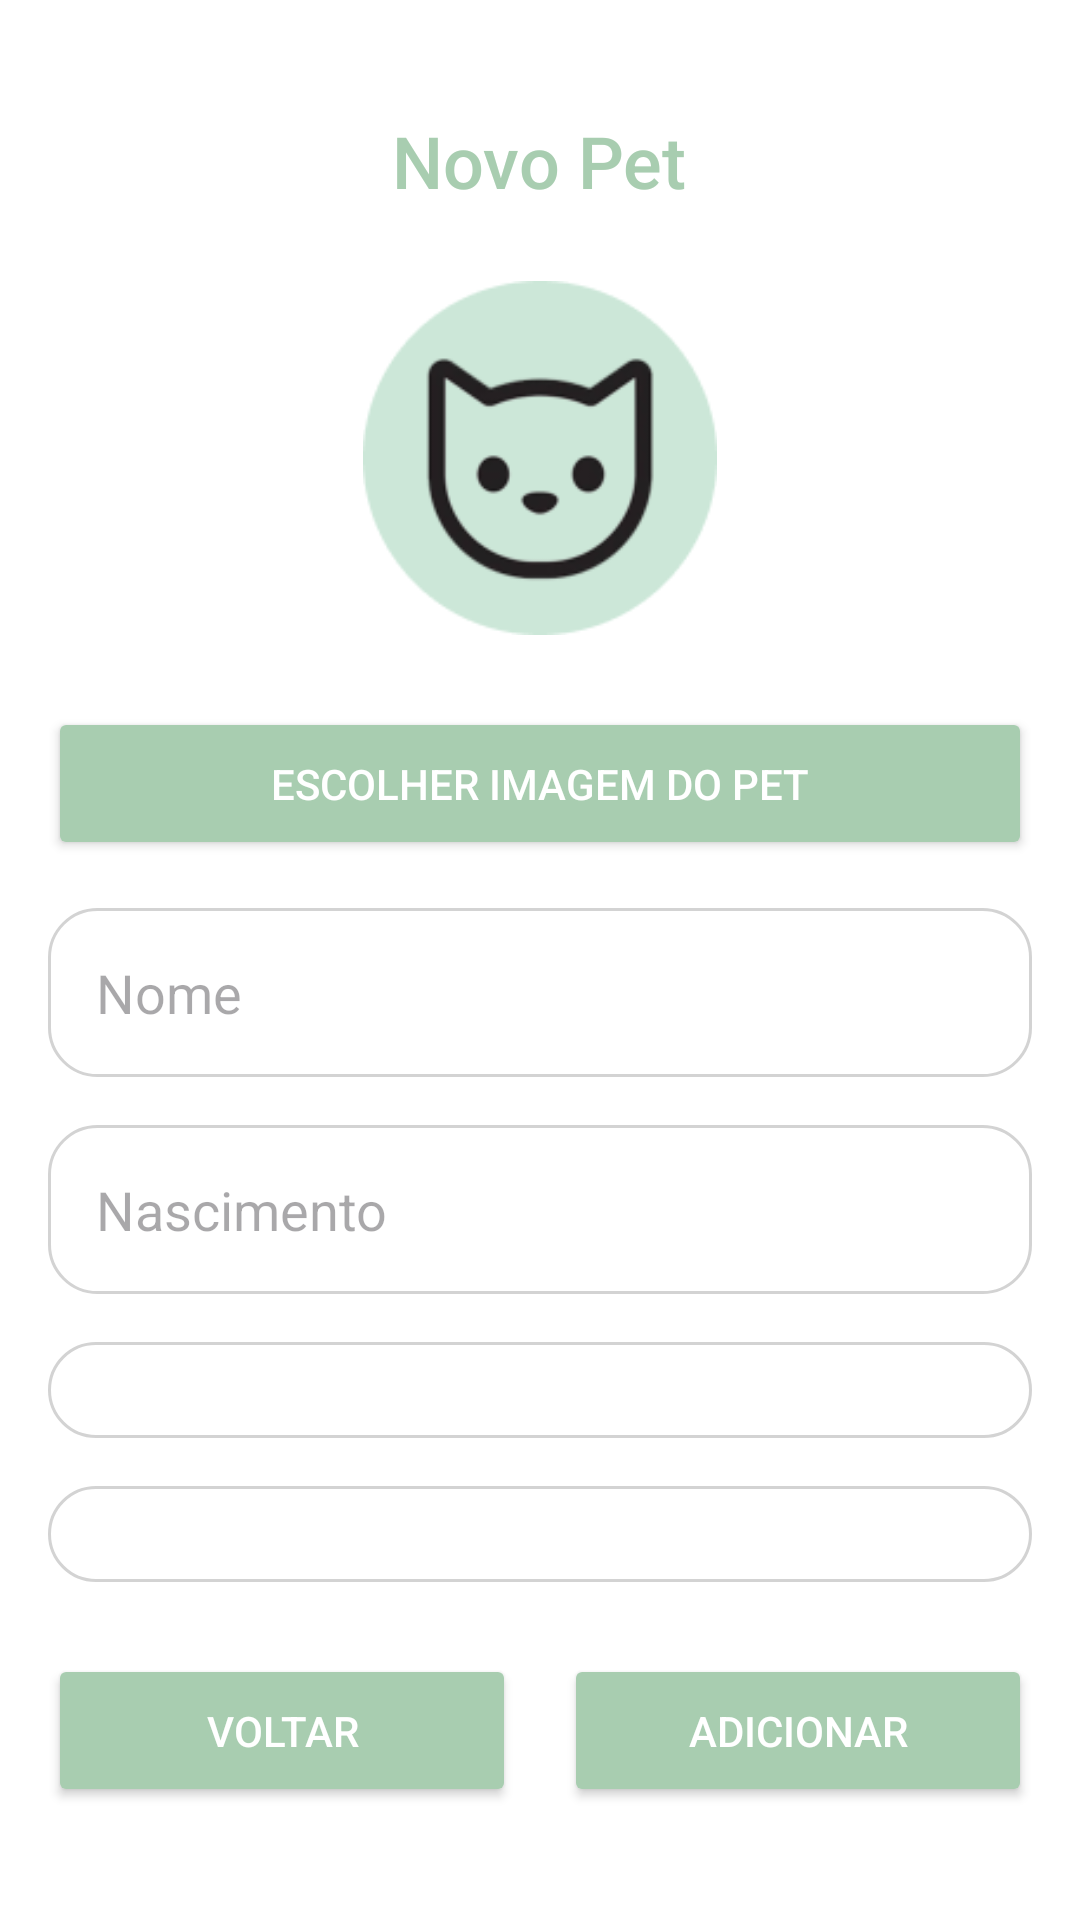

Where to tap for icons on this 1080 × 1920 app screen, as [x,y]:
cat: [540,458]
